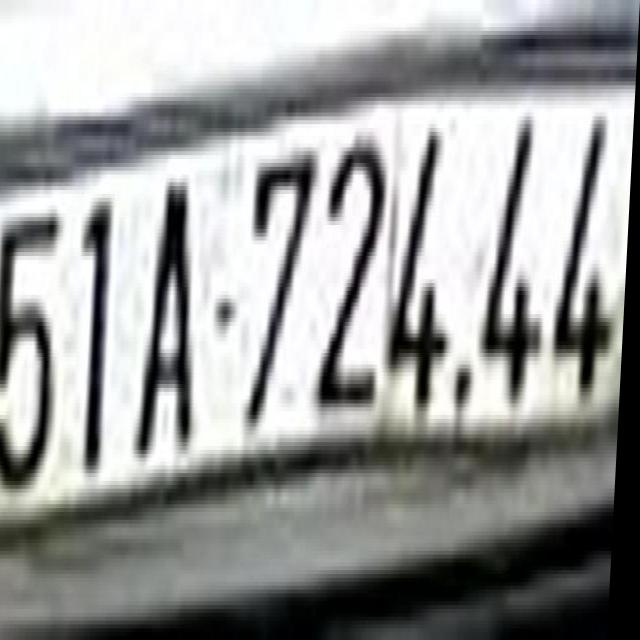1: (77, 163, 126, 485)
2: (317, 128, 391, 419)
4: (393, 117, 465, 430), (485, 93, 552, 427), (553, 89, 620, 419)
5: (0, 198, 68, 504)
7: (243, 132, 317, 438)
A: (142, 186, 212, 462)
